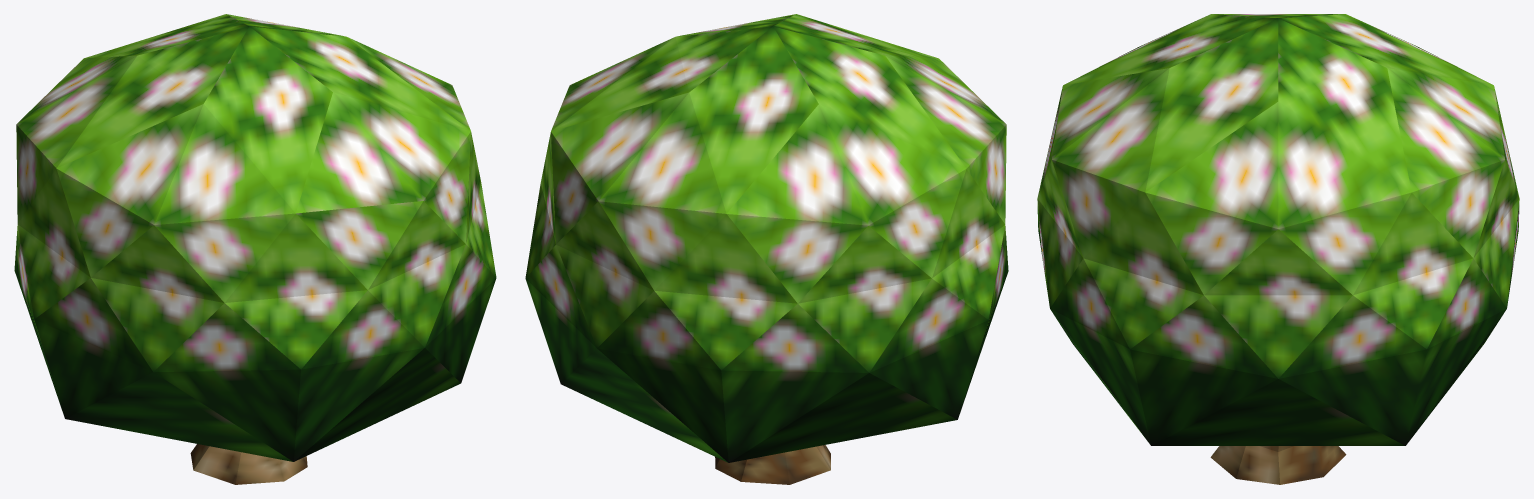
The model's file is Poly_Bush_02.obj.
3 views of the same model, side by side, from view 1: azimuth 30°, elevation 25°; view 2: azimuth 150°, elevation 25°; view 3: azimuth 270°, elevation 25° (orthographic).
Parts seen in each view (by area): view 1: Icosphere.001, Plane; view 2: Icosphere.001, Plane; view 3: Icosphere.001, Plane.
Part boxes in pixels (box(x1,y1,x2,y2)): Icosphere.001: box(14, 14, 496, 461); Plane: box(190, 444, 307, 484); Icosphere.001: box(525, 14, 1008, 462); Plane: box(715, 445, 830, 484); Icosphere.001: box(1037, 14, 1519, 445); Plane: box(1210, 446, 1346, 484).
Bounding box in the file's own units: 1.03 × 1.02 × 1.01.
1 material, 1 textured.
